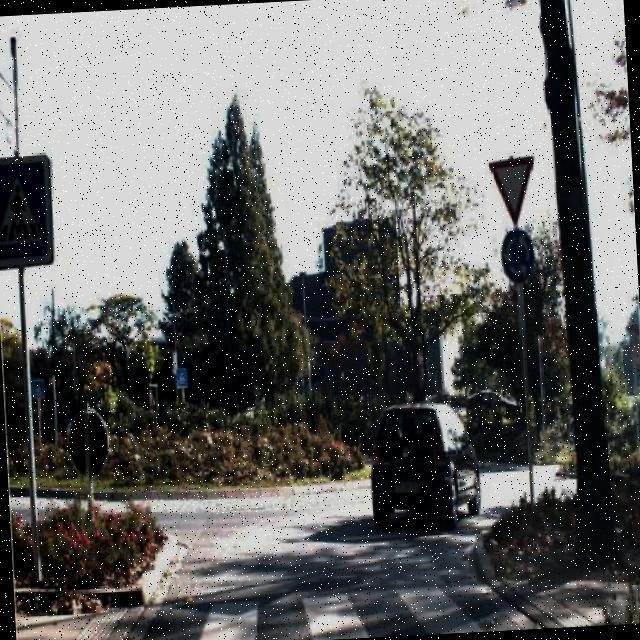Przejscie dla pieszych: (0, 151, 56, 272), (31, 377, 46, 402), (174, 366, 188, 392)
Ustap pierwszenstwa: (486, 158, 540, 225)
